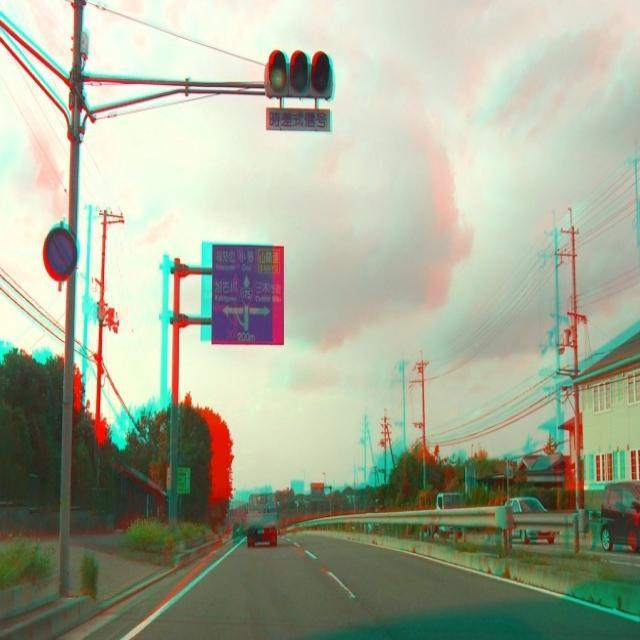traffic light: (261, 48, 332, 98), (44, 227, 76, 274)
